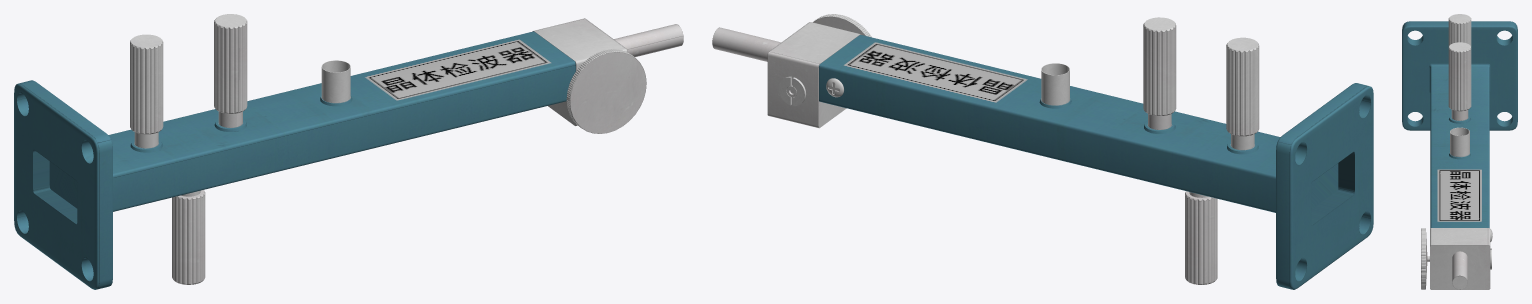
File: Jing_ti_jian_bo_qi.FBX
The picture shows the model from 3 angles, left to right: view 1: azimuth 30°, elevation 25°; view 2: azimuth 150°, elevation 25°; view 3: azimuth 270°, elevation 25°; orthographic projection. The views are drawn at different scales.
Visible parts, largest first — view 1: 对象017, 对象009, 对象013, 对象012, 对象011, 对象010, 对象014, 对象008, 对象015; view 2: 对象017, 对象009, 对象014, 对象011, 对象012, 对象010, 对象008, 对象015, 对象013; view 3: 对象017, 对象009, 对象014, 对象011, 对象012, 对象008, 对象015, 对象013.
Boxes of the visible parts, x1,y1,x2,y2 form: 对象017: [49, 31, 575, 211]; 对象009: [14, 80, 112, 289]; 对象013: [566, 49, 646, 133]; 对象012: [130, 34, 163, 134]; 对象011: [214, 14, 247, 113]; 对象010: [172, 190, 205, 284]; 对象014: [532, 18, 627, 125]; 对象008: [614, 24, 683, 56]; 对象015: [321, 60, 350, 103]; 对象017: [819, 34, 1338, 212]; 对象009: [1276, 83, 1373, 289]; 对象014: [767, 22, 861, 128]; 对象011: [1143, 17, 1176, 115]; 对象012: [1226, 37, 1259, 136]; 对象010: [1185, 191, 1217, 284]; 对象008: [712, 27, 781, 61]; 对象015: [1041, 63, 1069, 105]; 对象013: [813, 14, 871, 37]; 对象017: [1429, 63, 1492, 241]; 对象009: [1402, 21, 1517, 130]; 对象014: [1430, 228, 1491, 289]; 对象011: [1448, 42, 1471, 111]; 对象012: [1448, 14, 1471, 46]; 对象008: [1452, 251, 1467, 289]; 对象015: [1450, 127, 1469, 157]; 对象013: [1421, 228, 1429, 289].
Size of the model in its own units: 17.13 by 6.5 by 4.
Materials: 1 (1 with a texture image).
